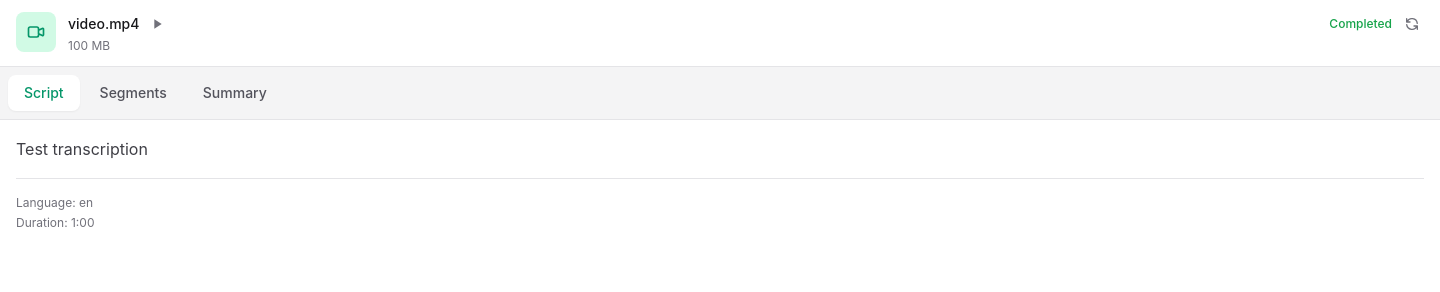
Test: Inspector › Summary tab › displays OpenAI model metadata correctly
The image size is (1440, 292).
// Click on Summary tab
Click the tab "Summary".
click(235, 93)  # box [187, 75, 283, 111]
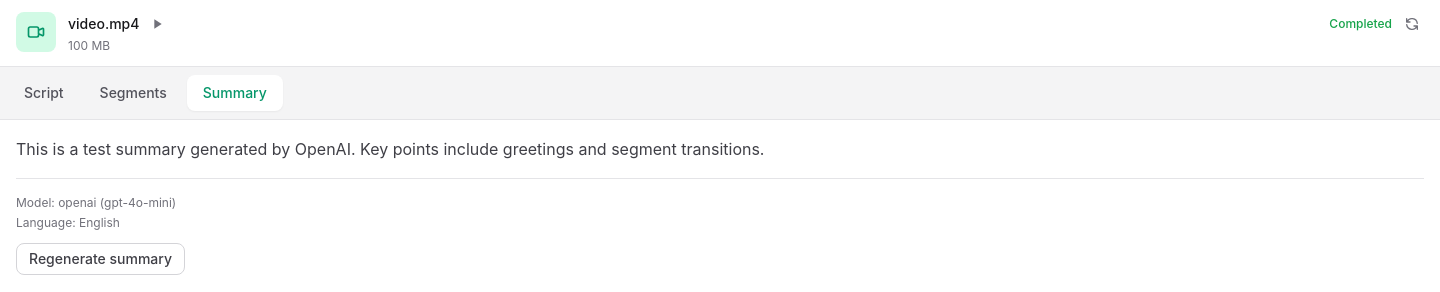
Expected: the text "Model: openai (gpt-4o-mini)" is shown, [16, 195, 176, 210]
